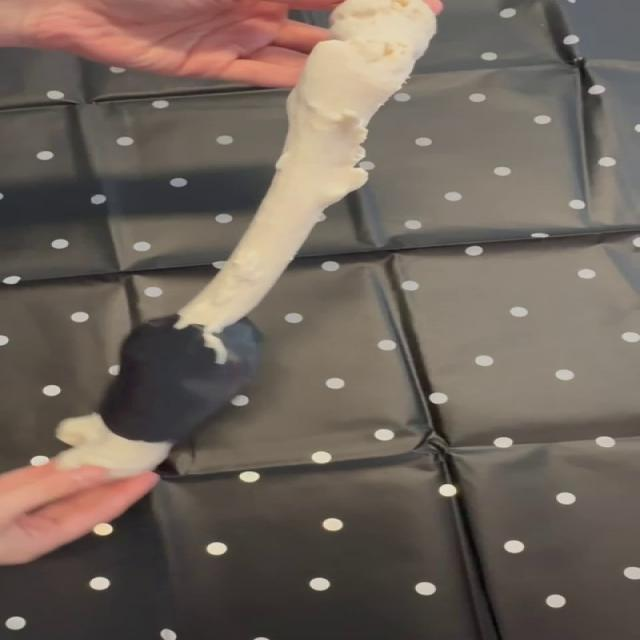bones: (56, 0, 437, 477)
